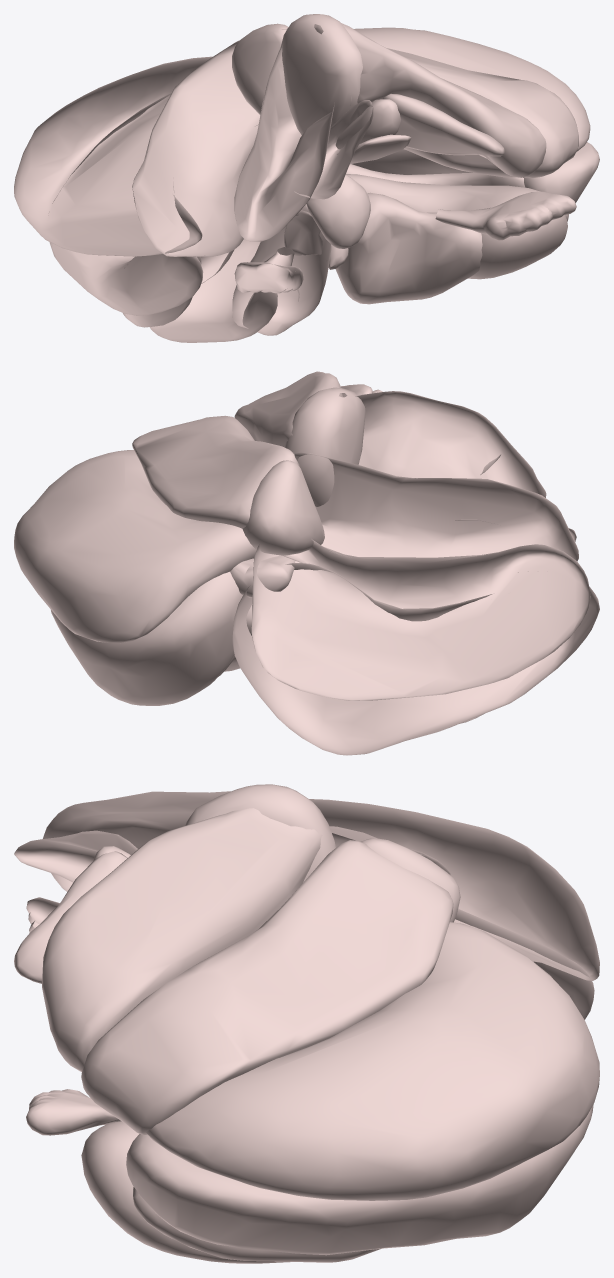
Rendered from zanatomy-cerebellum.glb.
3 views of the same model, one above another, from view 1: azimuth 30°, elevation 25°; view 2: azimuth 150°, elevation 25°; view 3: azimuth 270°, elevation 25° (orthographic). The views are drawn at different scales.
Visible parts, largest first — view 1: zb_cerebellum; view 2: zb_cerebellum; view 3: zb_cerebellum.
Part boxes in pixels (x1,y1,x2,y2): zb_cerebellum: [14, 14, 599, 342]; zb_cerebellum: [14, 371, 599, 755]; zb_cerebellum: [14, 784, 599, 1263].
Bounding box in the file's own units: 0.0982 × 0.0529 × 0.0709.
